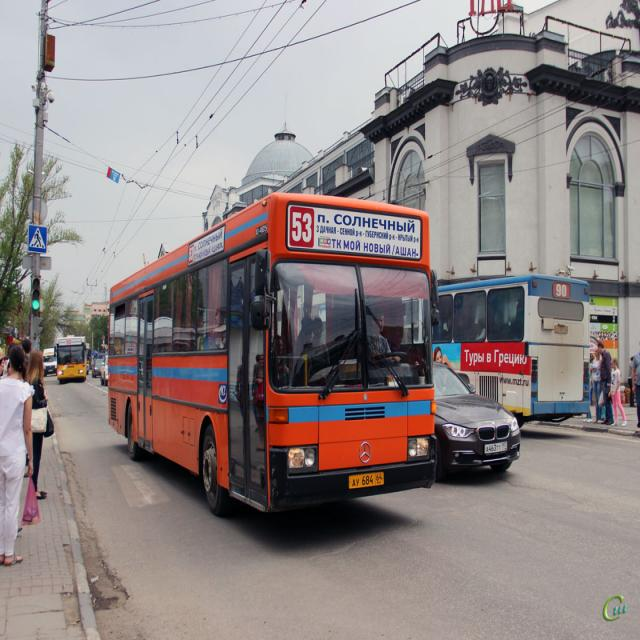number-of-bus: (289, 206, 316, 251)
